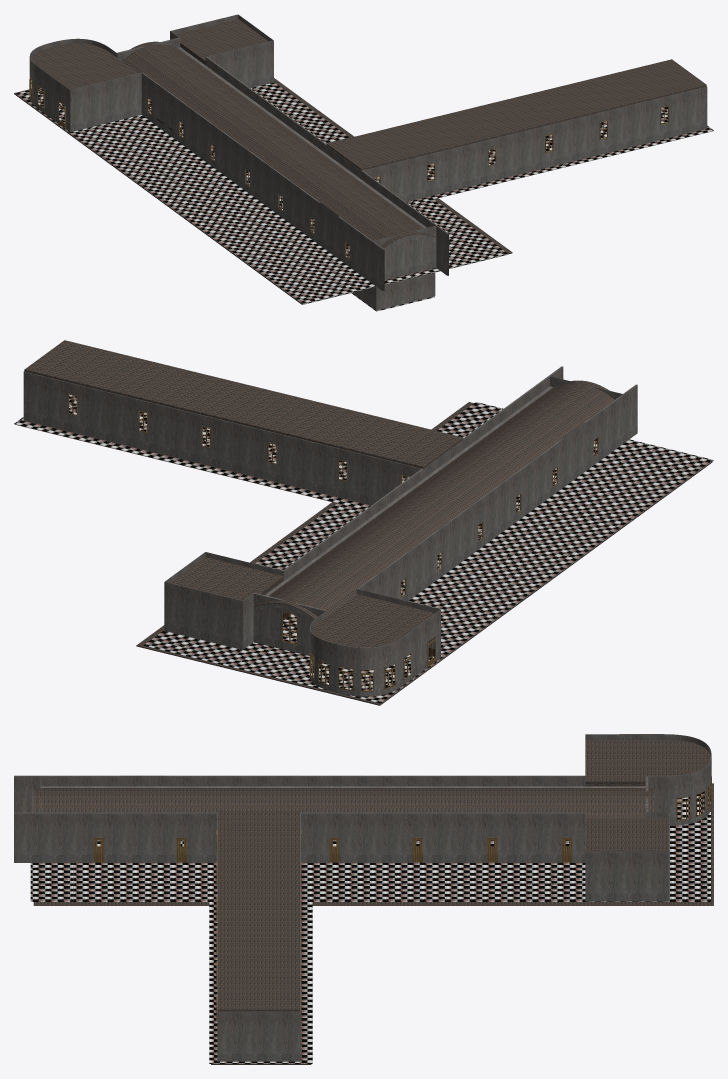
Rendered from SANATORIO_APRESENTACAO.FBX.
The picture shows the model from 3 angles, top to bottom: view 1: azimuth 30°, elevation 25°; view 2: azimuth 150°, elevation 25°; view 3: azimuth 270°, elevation 25°; orthographic projection. The views are drawn at different scales.
Visible parts, largest first — view 1: parede, forro, PISO DE CIMA, portas, pilares; view 2: parede, forro, PISO DE CIMA, portas, pilares; view 3: parede, forro, PISO DE CIMA, portas, pilares.
Part boxes in pixels (x1,y1,x2,y2): parede: (29,14,707,310); forro: (14,19,712,304); PISO DE CIMA: (15,82,713,311); portas: (29,75,668,259); pilares: (163,47,436,252); parede: (23,366,637,696); forro: (15,340,712,705); PISO DE CIMA: (14,394,713,703); portas: (68,393,598,691); pilares: (256,386,553,621); parede: (14,734,711,1061); forro: (33,739,713,1064); PISO DE CIMA: (30,792,710,1063); portas: (93,776,711,1020); pilares: (32,786,645,812).
Size of the model in its own units: 2126 by 307 by 2242.
